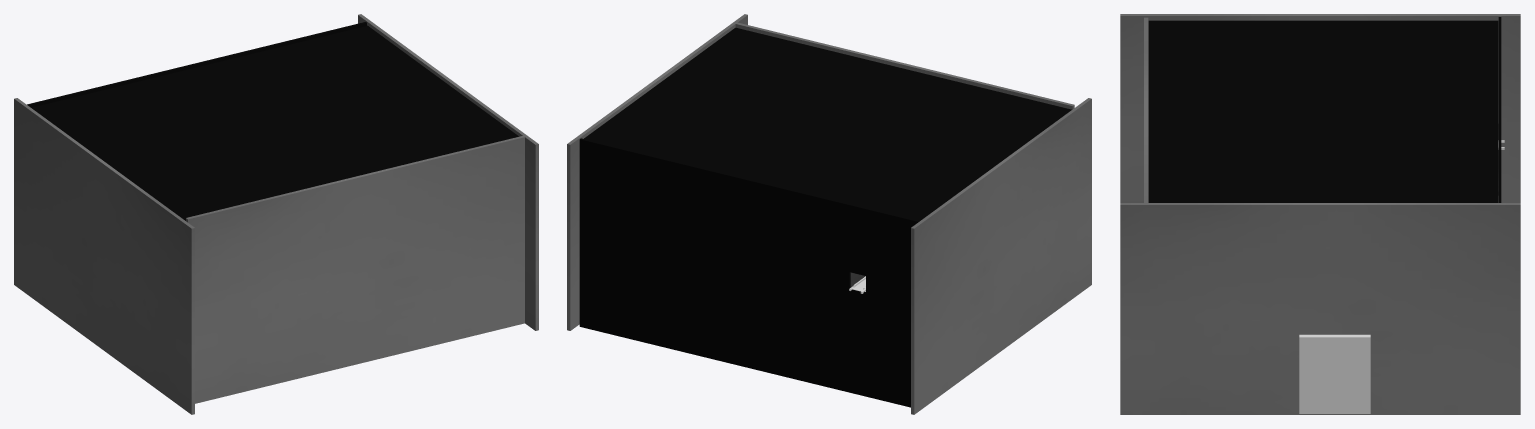
Rendered from FASE2.fbx.
3 renders of one model, left to right at view 1: azimuth 30°, elevation 25°; view 2: azimuth 150°, elevation 25°; view 3: azimuth 270°, elevation 25°, orthographic. The views are drawn at different scales.
Parts seen in each view (by area): view 1: Plane.002, Plane.005, Plane.003, Plane.004, Cube.003; view 2: Cube.003, Plane.005, Plane.003, Plane.004, Plane.002; view 3: Plane.004, Plane.005, Plane.003, Cube.004, Cube.005, Plane.002, Cube.003.
Part boxes in pixels (<box>): Plane.002: <box>186,136,524,403</box>; Plane.005: <box>31,25,518,220</box>; Plane.003: <box>14,98,194,414</box>; Plane.004: <box>358,14,538,330</box>; Cube.003: <box>27,22,366,107</box>; Cube.003: <box>579,138,919,407</box>; Plane.005: <box>584,27,1071,220</box>; Plane.003: <box>911,98,1091,414</box>; Plane.004: <box>567,14,747,330</box>; Plane.002: <box>735,22,1074,109</box>; Plane.004: <box>1120,203,1520,414</box>; Plane.005: <box>1148,20,1498,202</box>; Plane.003: <box>1120,14,1520,202</box>; Cube.004: <box>1335,334,1370,413</box>; Cube.005: <box>1299,334,1334,413</box>; Plane.002: <box>1144,17,1148,202</box>; Cube.003: <box>1498,17,1501,202</box>.
Bounding box in the file's own units: 11749 × 6050 × 10267.
5 materials, 3 textured.
